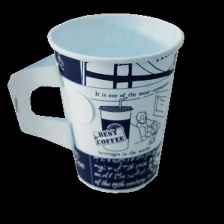paper_cup: (2, 9, 189, 196)
